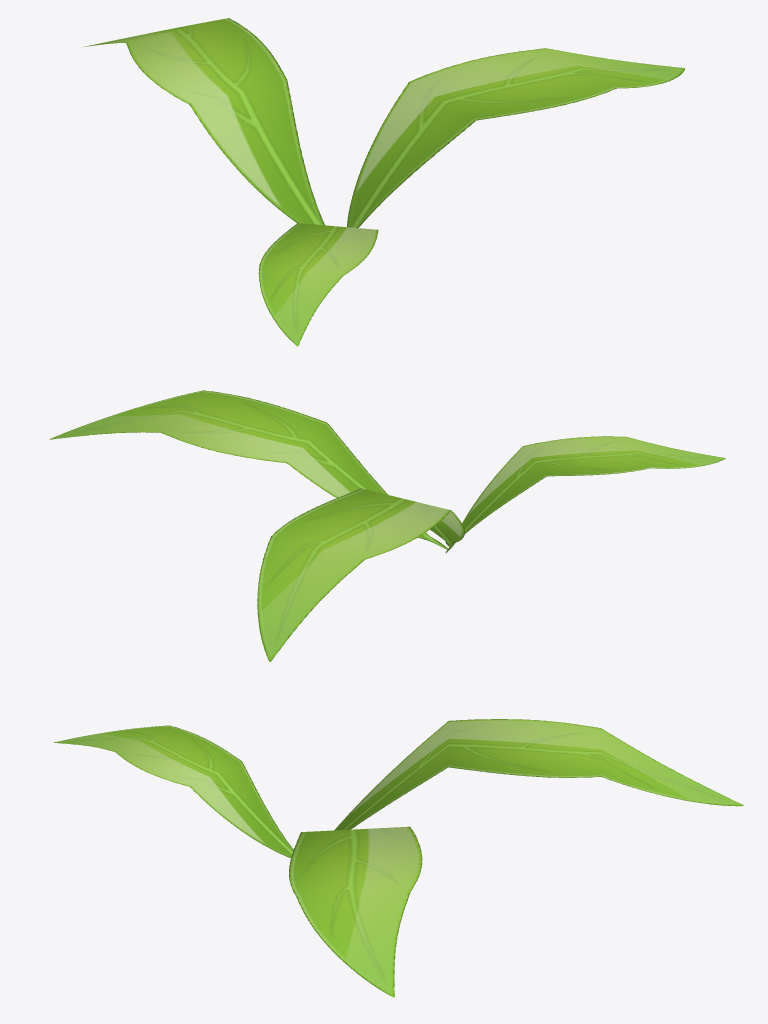
Rendered from flower_2.fbx.
3 views of the same model, one above another, from view 1: azimuth 30°, elevation 25°; view 2: azimuth 150°, elevation 25°; view 3: azimuth 270°, elevation 25° (orthographic). The views are drawn at different scales.
Parts seen in each view (by area): view 1: flower_2; view 2: flower_2; view 3: flower_2.
Boxes of the visible parts, x1=… form: flower_2: x1=82, y1=18, x2=684, y2=346; flower_2: x1=49, y1=390, x2=725, y2=661; flower_2: x1=53, y1=719, x2=743, y2=997.
Size of the model in its own units: 86.63 by 15.44 by 90.31.
